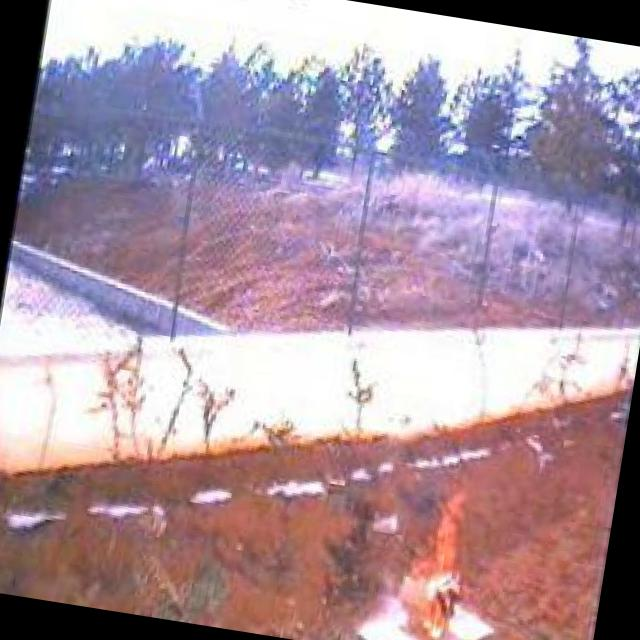Fire: (389, 477, 482, 640)
